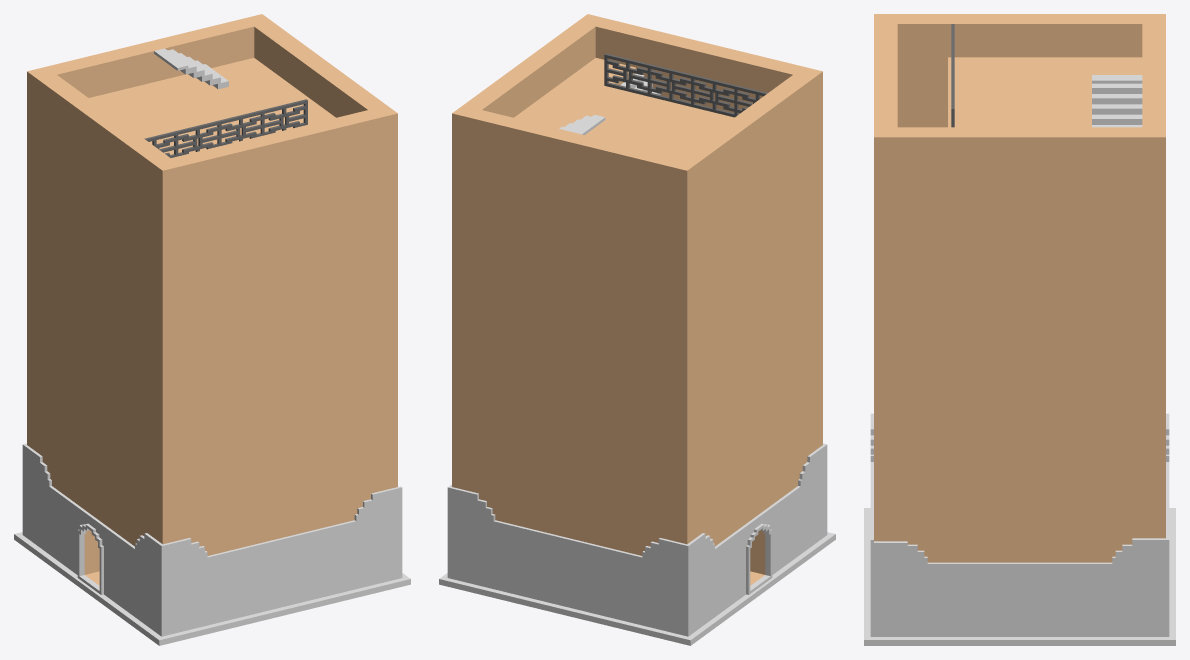
The model's file is castelloVillafranca-45.obj.
The picture shows the model from 3 angles, left to right: view 1: azimuth 30°, elevation 25°; view 2: azimuth 150°, elevation 25°; view 3: azimuth 270°, elevation 25°; orthographic projection. The views are drawn at different scales.
Bounding box in the file's own units: 9.3 × 16.6 × 9.3.
Materials: 1 (1 with a texture image).
